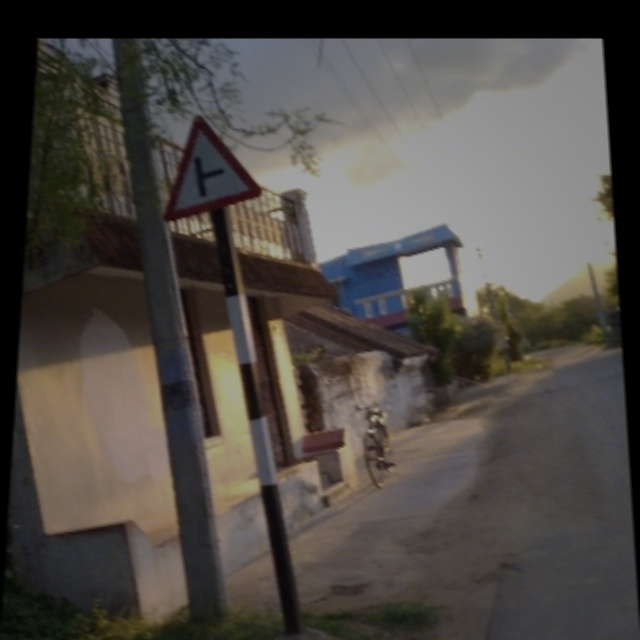Side_Road_Right: (153, 113, 266, 221)
